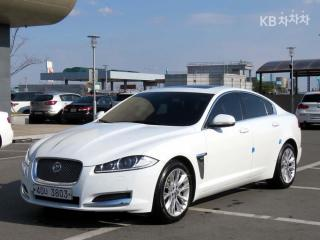0: (59, 189, 63, 198), (40, 187, 44, 195)
3: (49, 187, 55, 198), (63, 189, 68, 198)
4: (36, 186, 40, 195)
8: (54, 188, 59, 197)
나: (44, 187, 49, 195)
